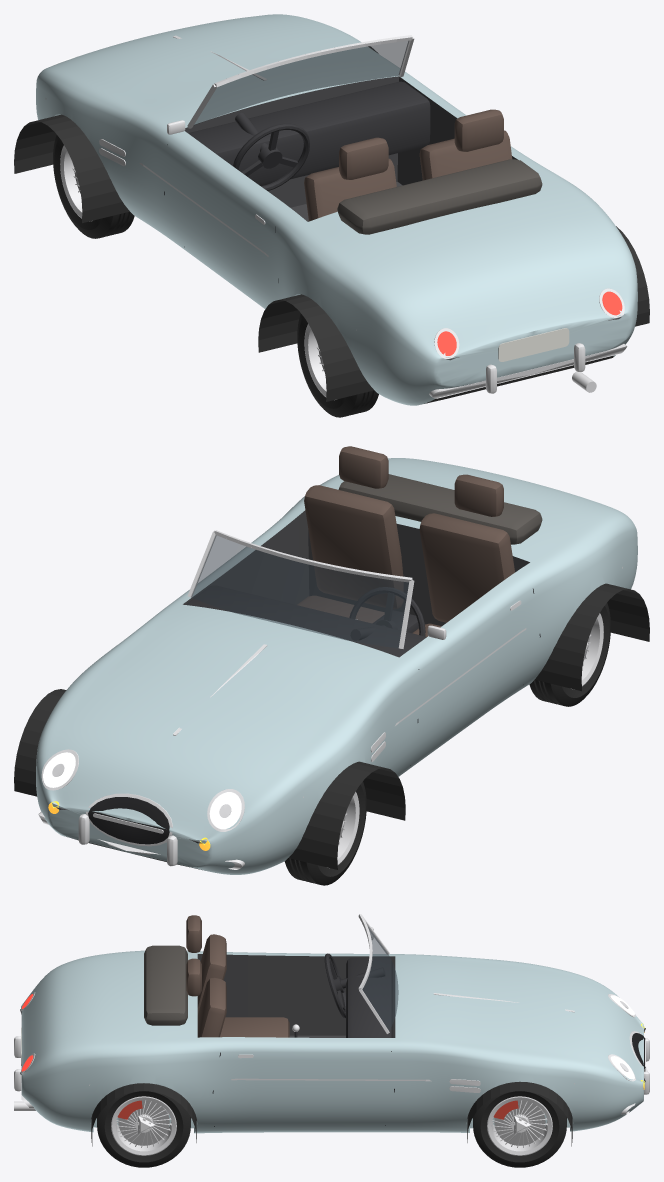
The model's file is 10_libella_spider.glb.
The picture shows the model from 3 angles, top to bottom: view 1: azimuth 30°, elevation 25°; view 2: azimuth 150°, elevation 25°; view 3: azimuth 270°, elevation 25°; orthographic projection. The views are drawn at different scales.
Visible parts, largest first — view 1: Body.015, Interior.015, ArchLiners.014, Softtop_Folded, Glass_Windscreen, Wheel_RL.015, Wheel_FL.015, SteeringWheel.015, WindscreenFrame, Plate_Rear.013, Bumper_Rear.007, Lights_Tail.015 (+1 smaller); view 2: Body.015, Interior.015, Glass_Windscreen, ArchLiners.014, Softtop_Folded, Wheel_FL.015, Wheel_RL.015, Grille_Main.005, WindscreenFrame, Lights_Head.015, SteeringWheel.015, Lights_Head_Housing.013 (+2 smaller); view 3: Body.015, Interior.015, Wheel_FR.015, Wheel_RR.015, Softtop_Folded, ArchLiners.014, Glass_Windscreen, SteeringWheel.015, WindscreenFrame, Side_Spear, Lights_Head.015.
Part boxes in pixels (x1,y1,x2,y2): Body.015: (36, 14, 637, 405); Interior.015: (188, 81, 512, 221); ArchLiners.014: (14, 46, 649, 401); Softtop_Folded: (337, 159, 542, 234); Glass_Windscreen: (194, 40, 408, 124); Wheel_RL.015: (297, 314, 378, 417); Wheel_FL.015: (53, 135, 134, 238); SteeringWheel.015: (233, 112, 309, 190); WindscreenFrame: (187, 35, 414, 128); Plate_Rear.013: (498, 328, 569, 361); Bumper_Rear.007: (429, 344, 627, 398); Lights_Tail.015: (437, 291, 622, 355); Body.015: (36, 458, 637, 874); Interior.015: (186, 446, 514, 657); Glass_Windscreen: (191, 535, 408, 648); ArchLiners.014: (14, 583, 649, 869); Softtop_Folded: (338, 474, 542, 544); Wheel_FL.015: (284, 781, 366, 885); Wheel_RL.015: (529, 603, 610, 706); Grille_Main.005: (88, 797, 169, 844); WindscreenFrame: (187, 530, 414, 648); Lights_Head.015: (43, 752, 241, 829); SteeringWheel.015: (349, 587, 425, 640); Lights_Head_Housing.013: (41, 749, 244, 831); Body.015: (21, 950, 643, 1133); Interior.015: (186, 915, 392, 1037); Wheel_FR.015: (473, 1091, 566, 1167); Wheel_RR.015: (97, 1091, 190, 1167); Softtop_Folded: (144, 945, 187, 1025); ArchLiners.014: (91, 1081, 572, 1146); Glass_Windscreen: (362, 927, 398, 1030); SteeringWheel.015: (324, 953, 385, 1018); WindscreenFrame: (358, 914, 389, 1033); Side_Spear: (89, 1078, 574, 1085); Lights_Head.015: (610, 995, 634, 1079).
Size of what is drawn, in the model's own units: 1.84 by 1.25 by 4.06.
